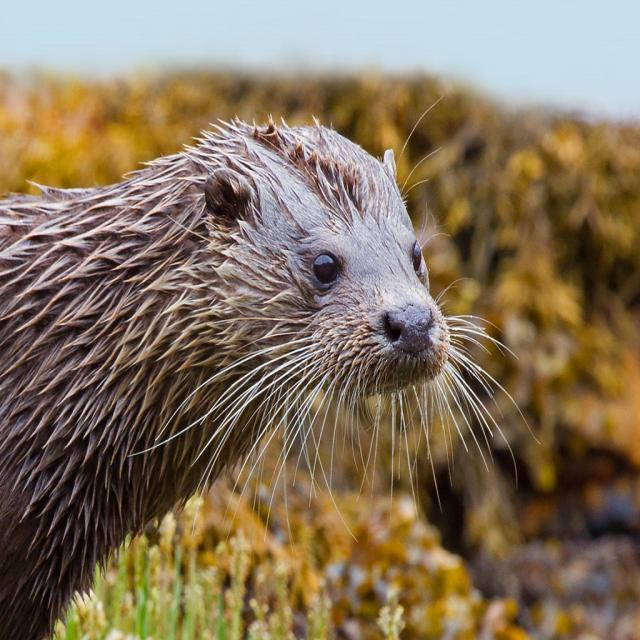otter: (1, 123, 451, 640)
